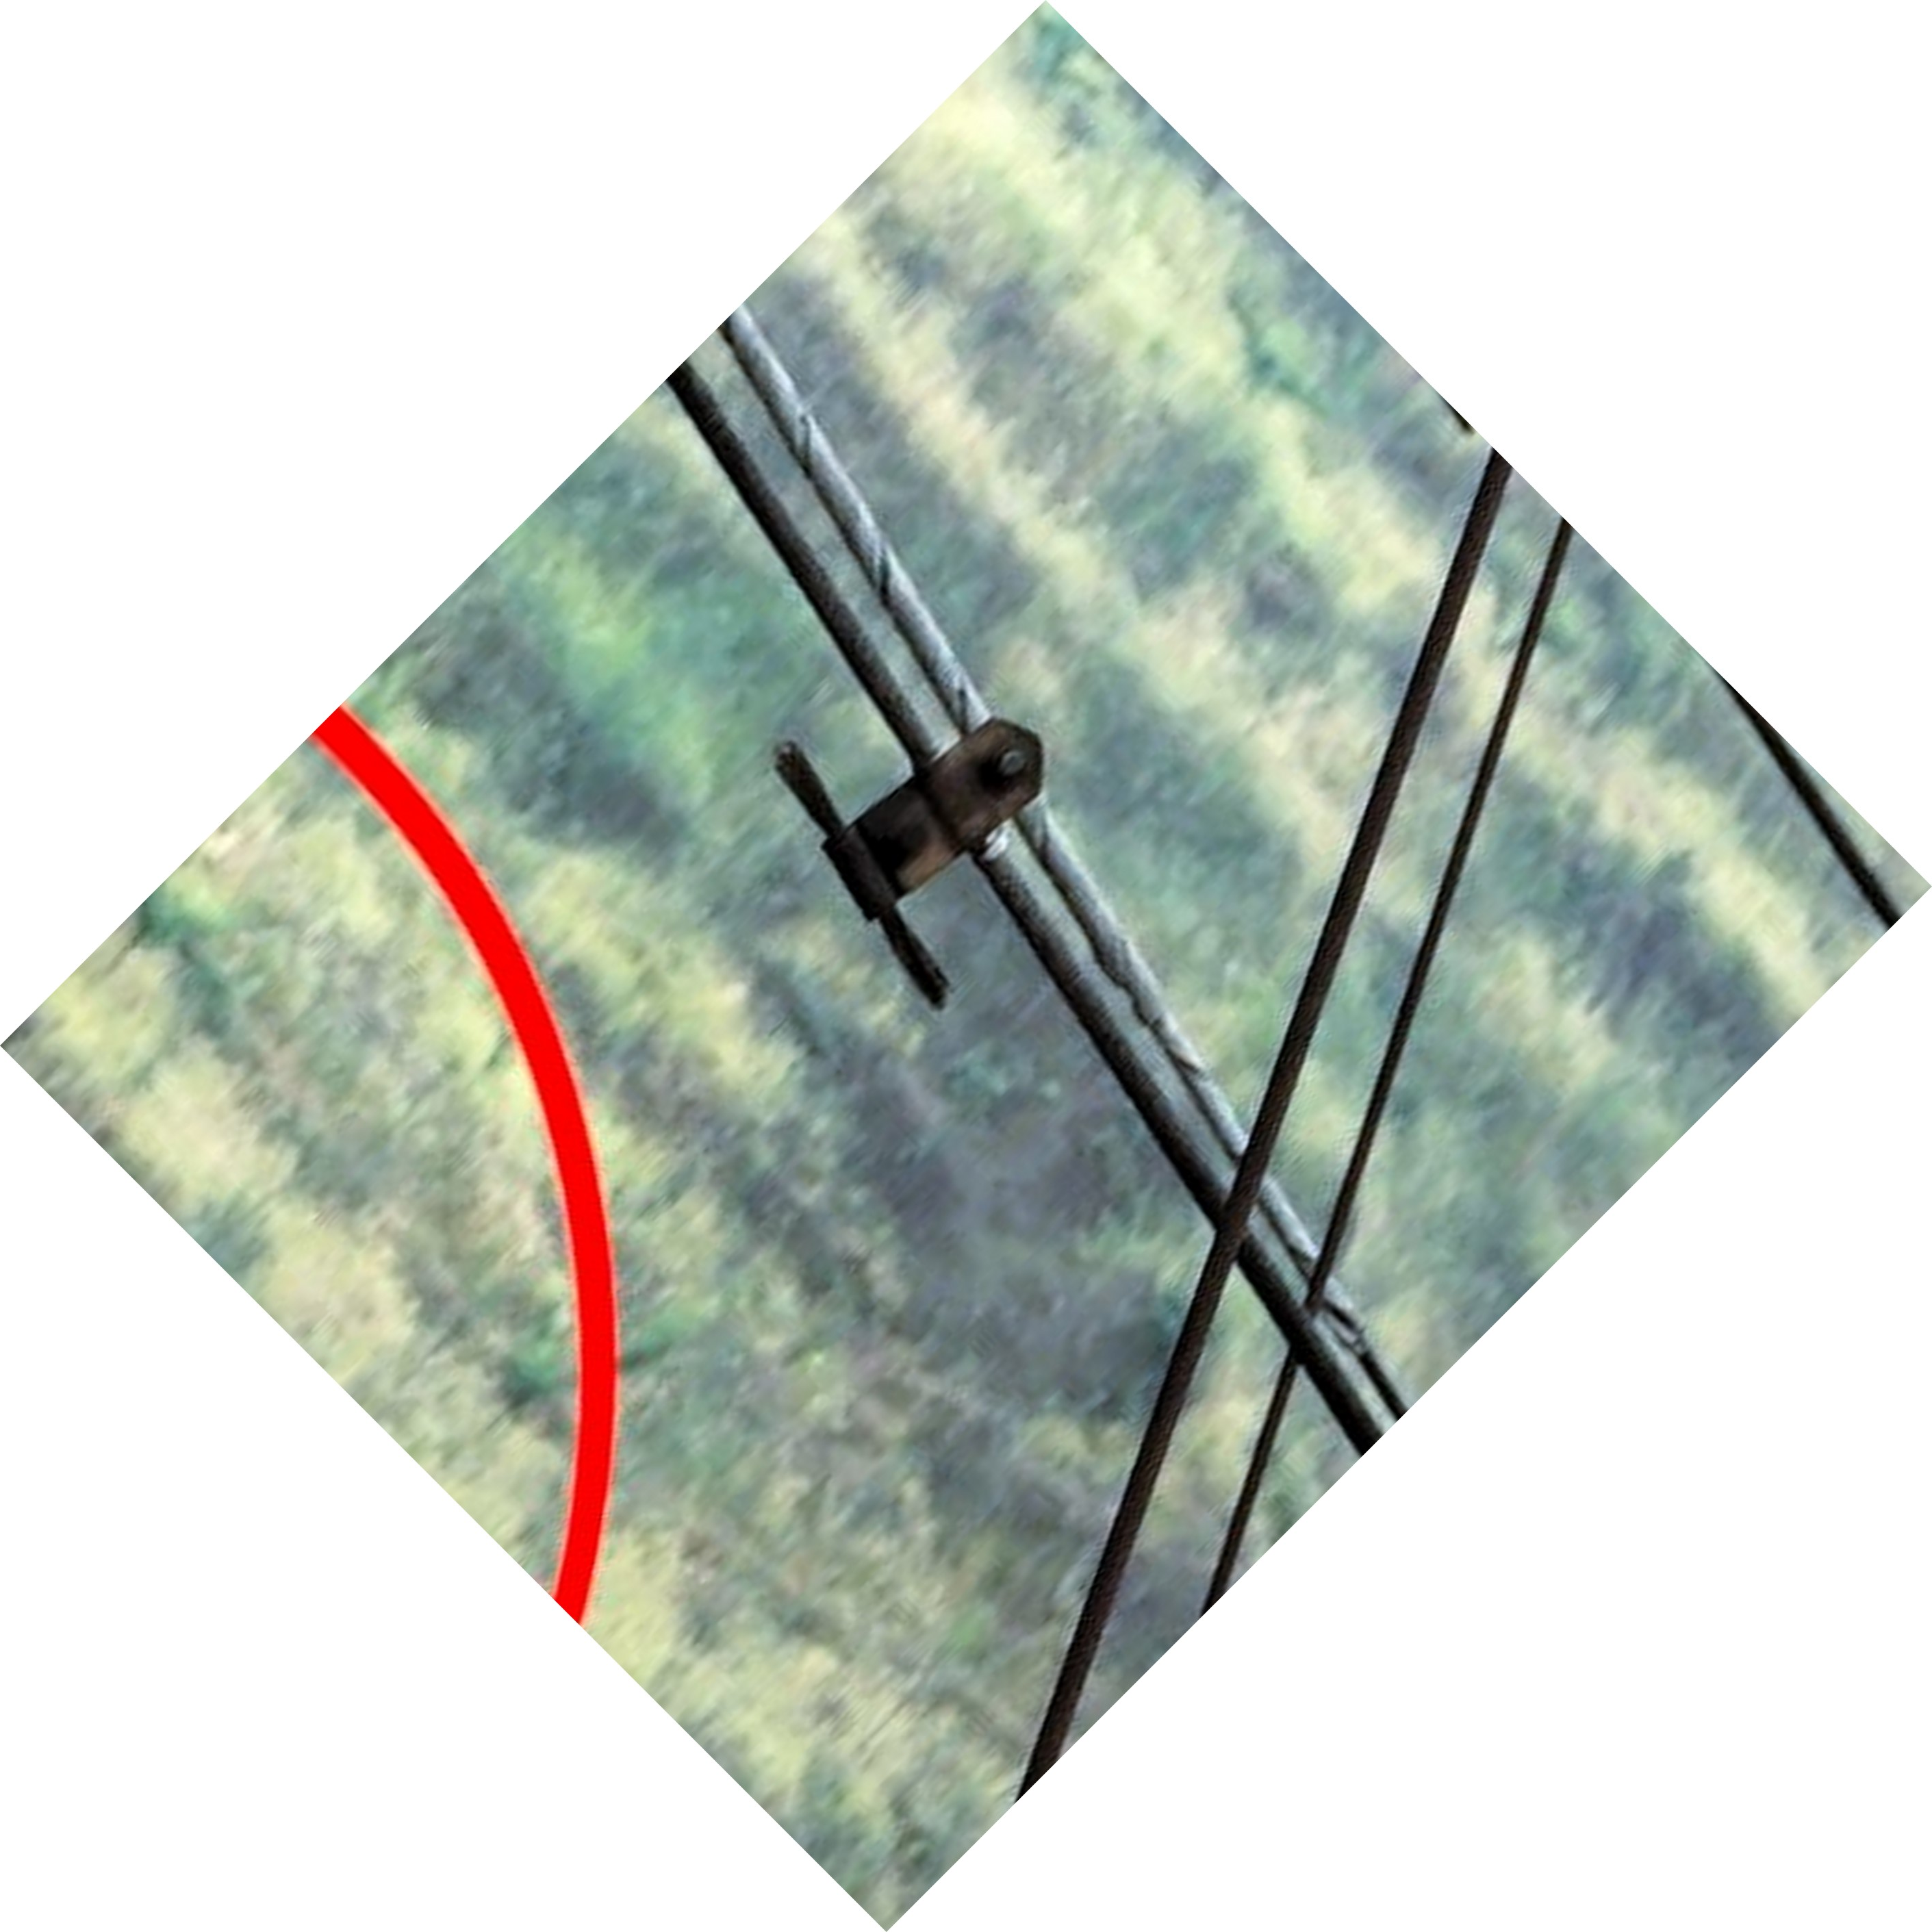Damage of shockproof hammer: (717, 646, 1100, 1035)
